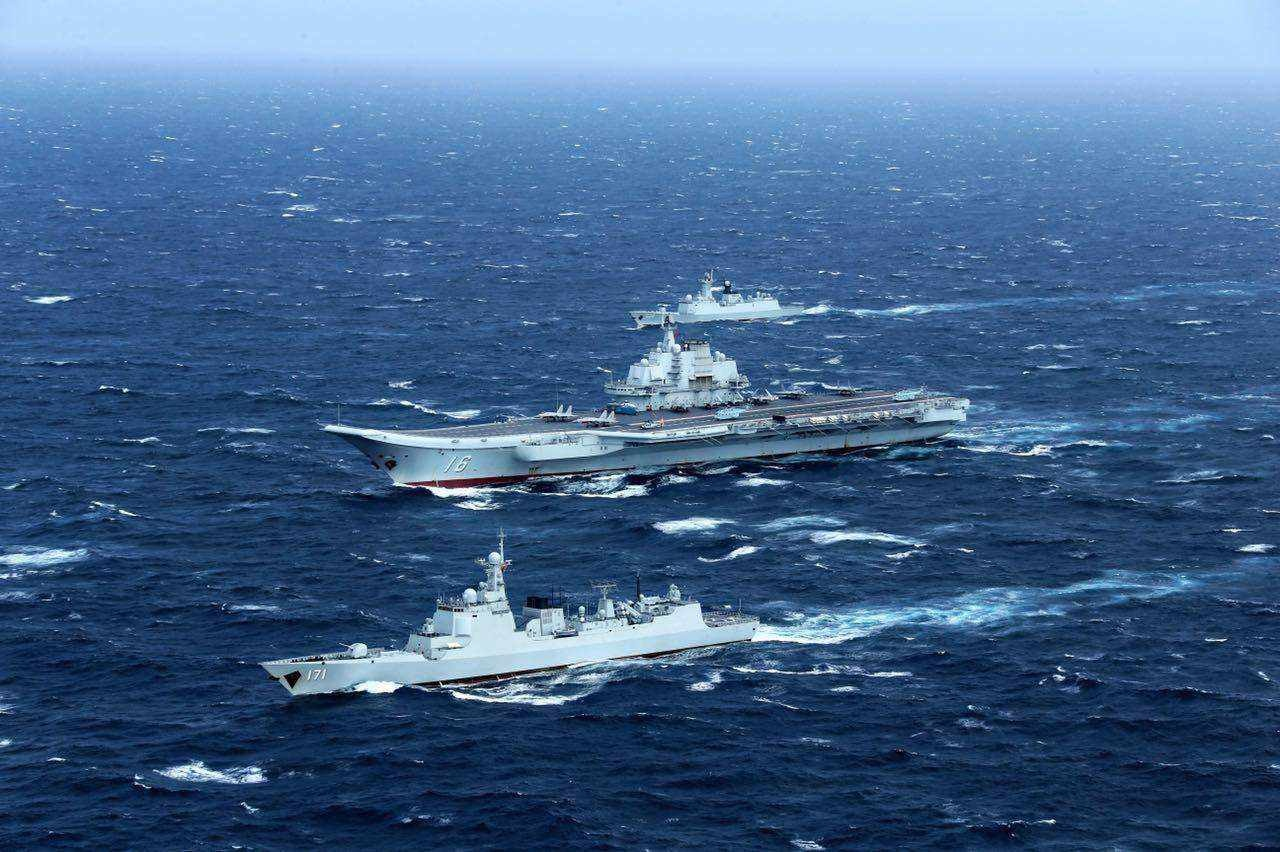warship: (316, 310, 975, 513), (248, 547, 752, 710), (615, 265, 850, 333)
